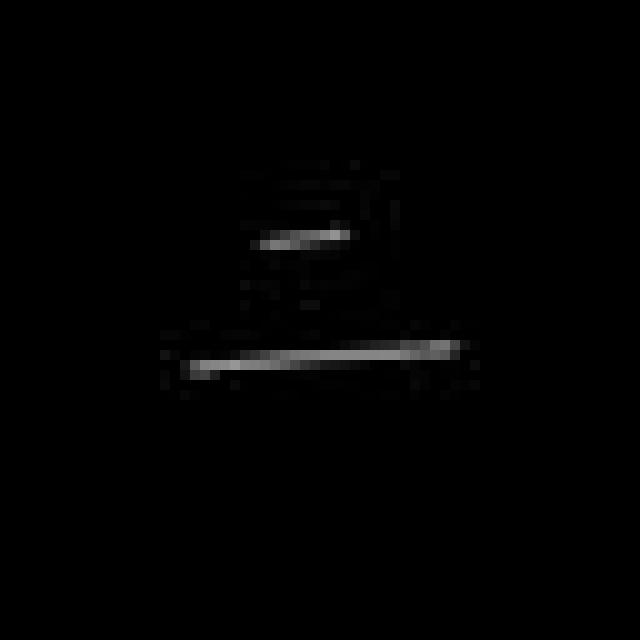2 -two-: (174, 206, 466, 393)
